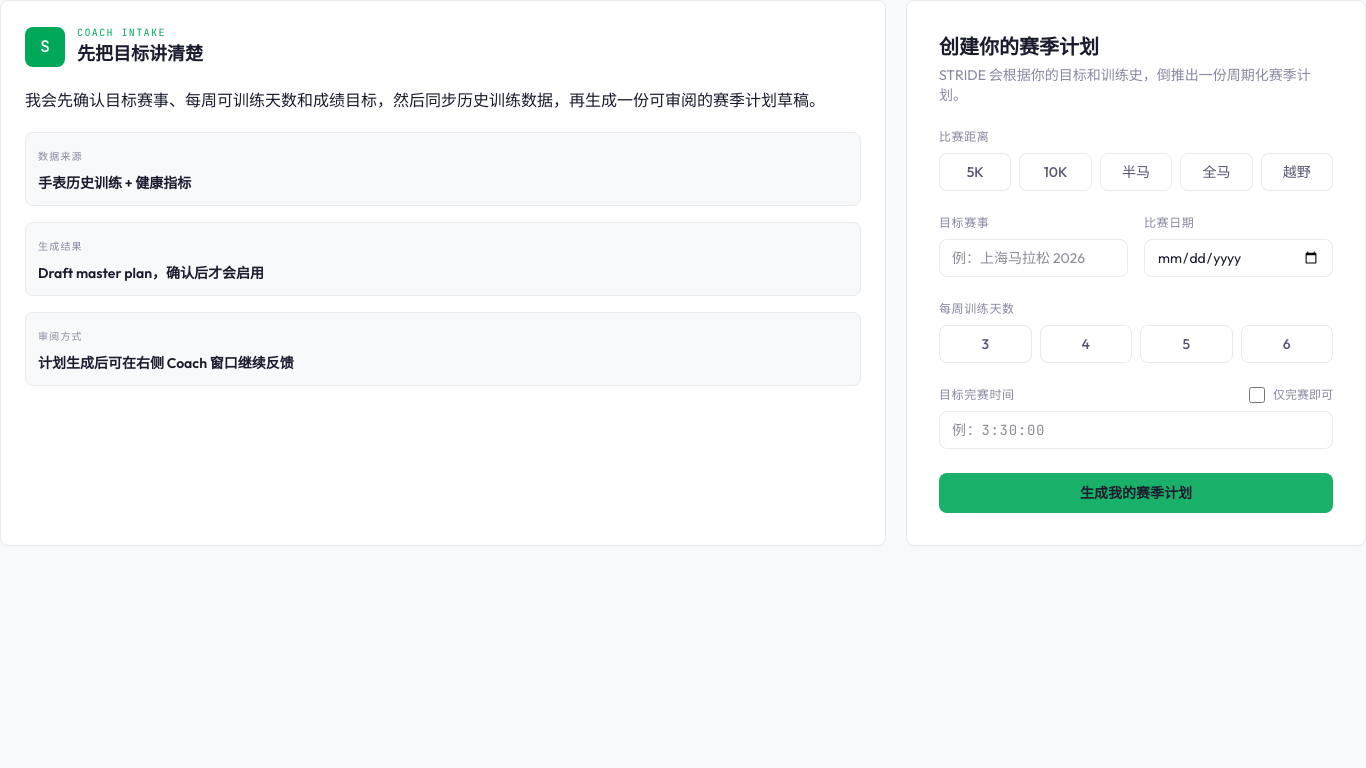
TrainingPlanSetup polling › rejects a non-incremental pipeline before polling
Click the button "5K".
click(975, 172)  # box [939,153,1011,191]
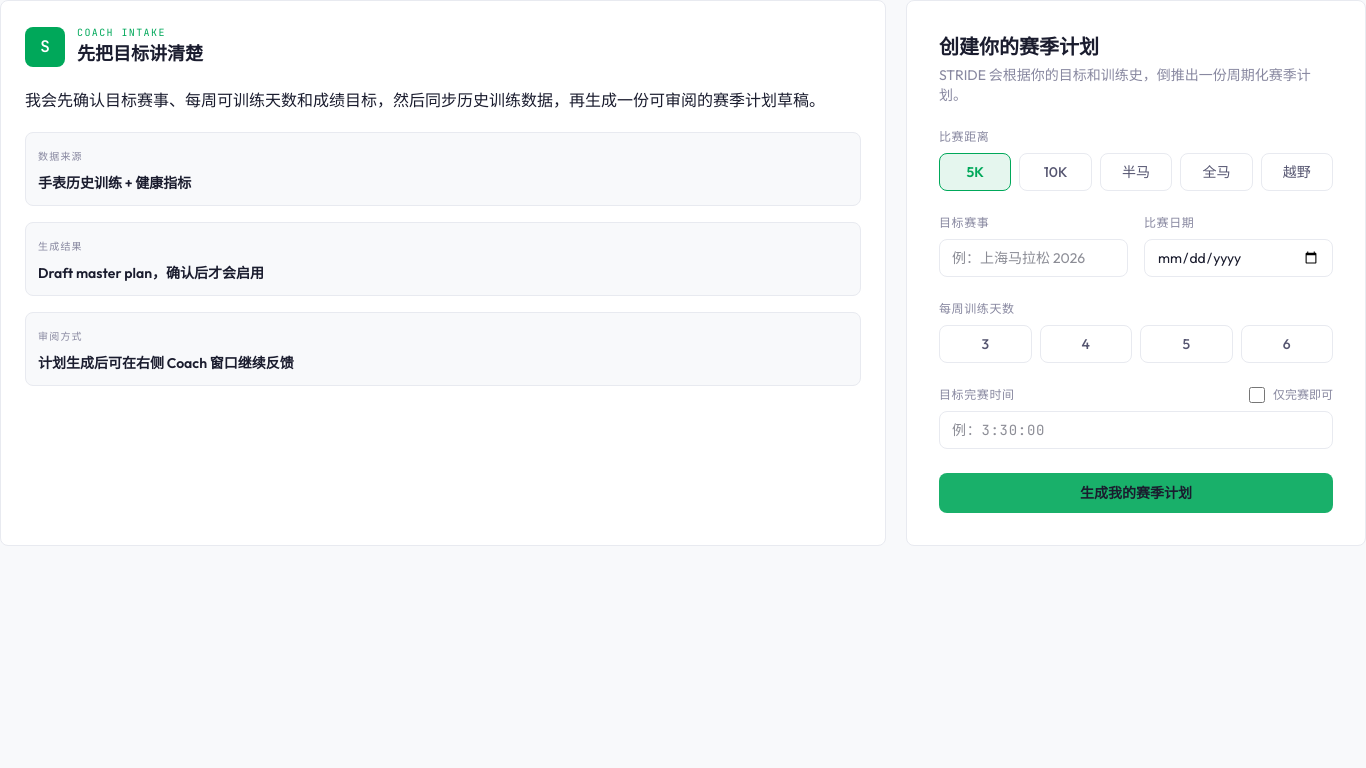
Type "测试比赛" into the field labelled "目标赛事".
click(1034, 258); type("测试比赛")  # box [939,239,1128,277]
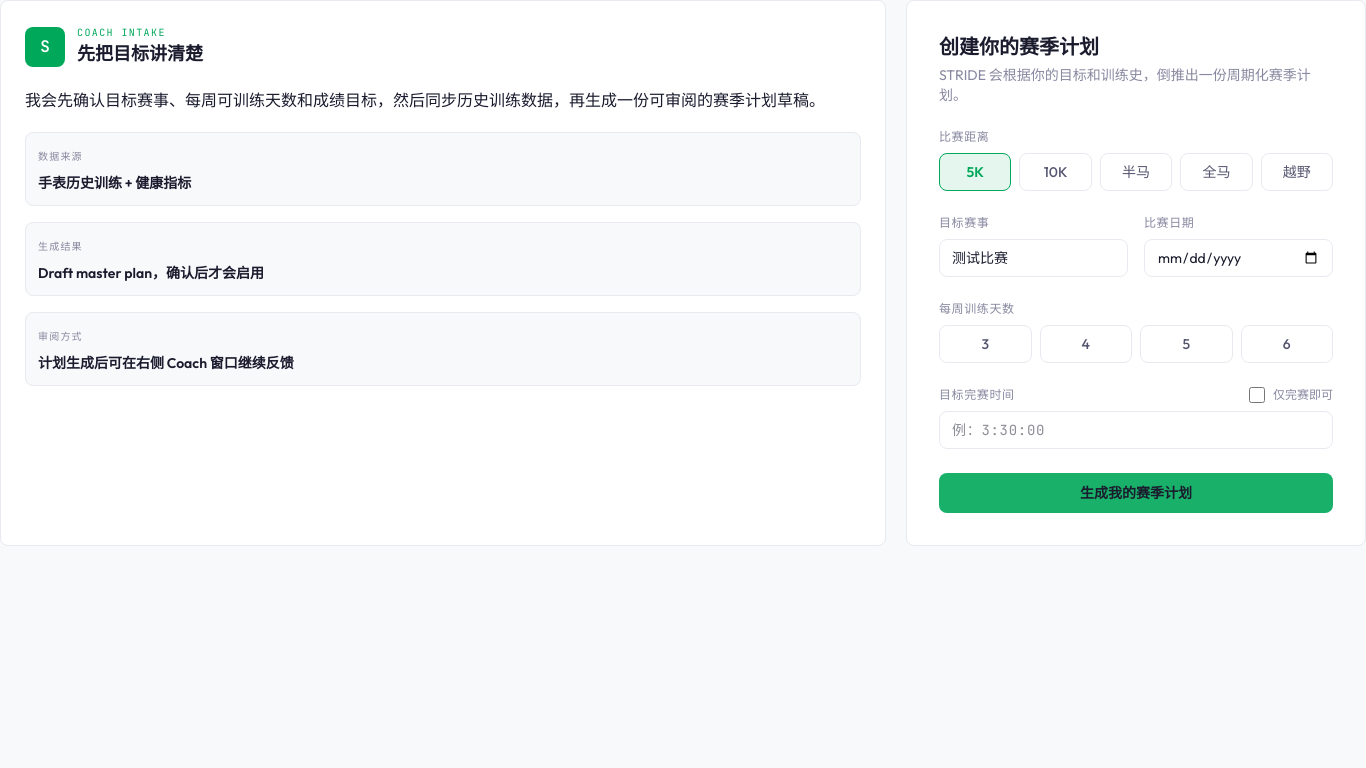
Type "2026-12-06" into the date field labelled "比赛日期".
click(1238, 258); type("2026-12-06")  # box [1144,239,1333,277]
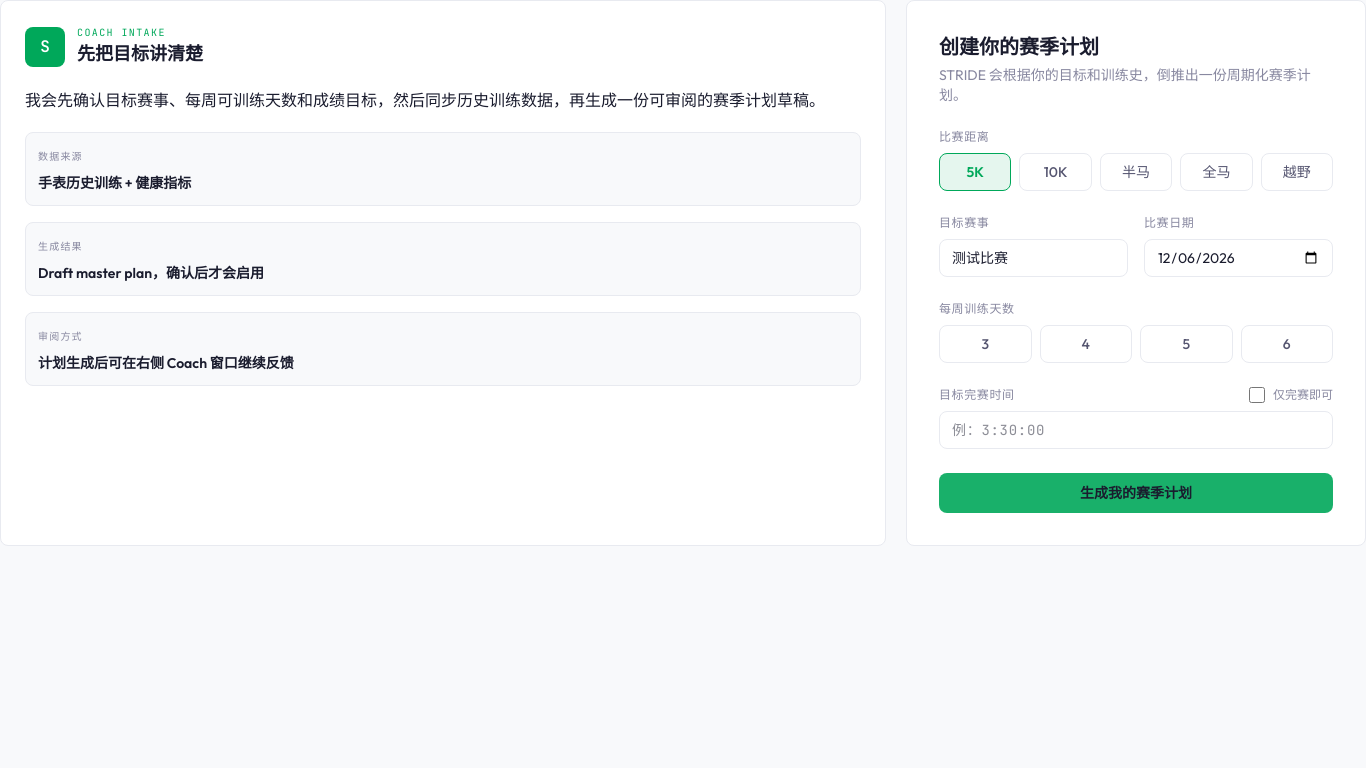
Click the button "5".
click(1186, 344)  # box [1140,325,1232,363]
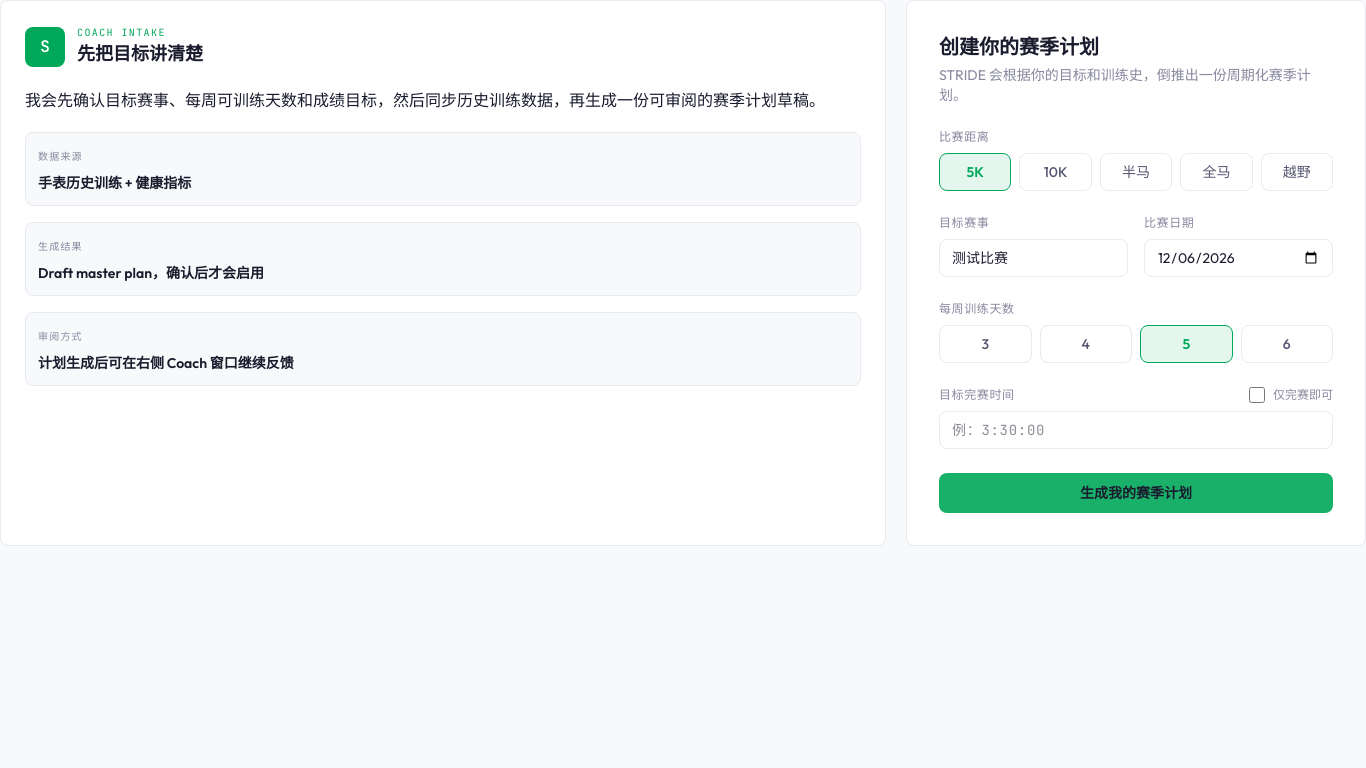
Check: the button "5K" is pressed, box [939,153,1011,191]
Check: the button "5" is pressed, box [1140,325,1232,363]
Submit the form "生成我的赛季计划", box [939,129,1333,513]
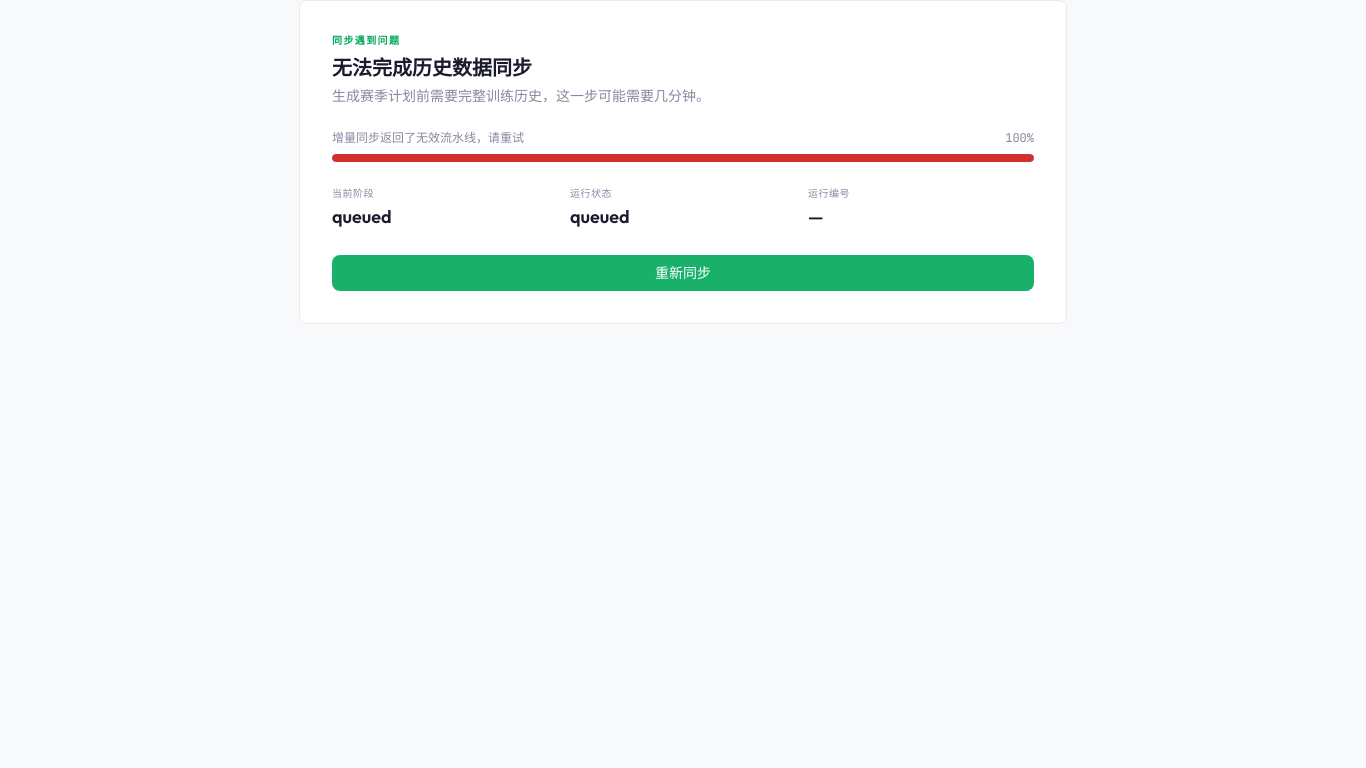
Check: the heading "无法完成历史数据同步" is shown, box [332,55,532,80]
